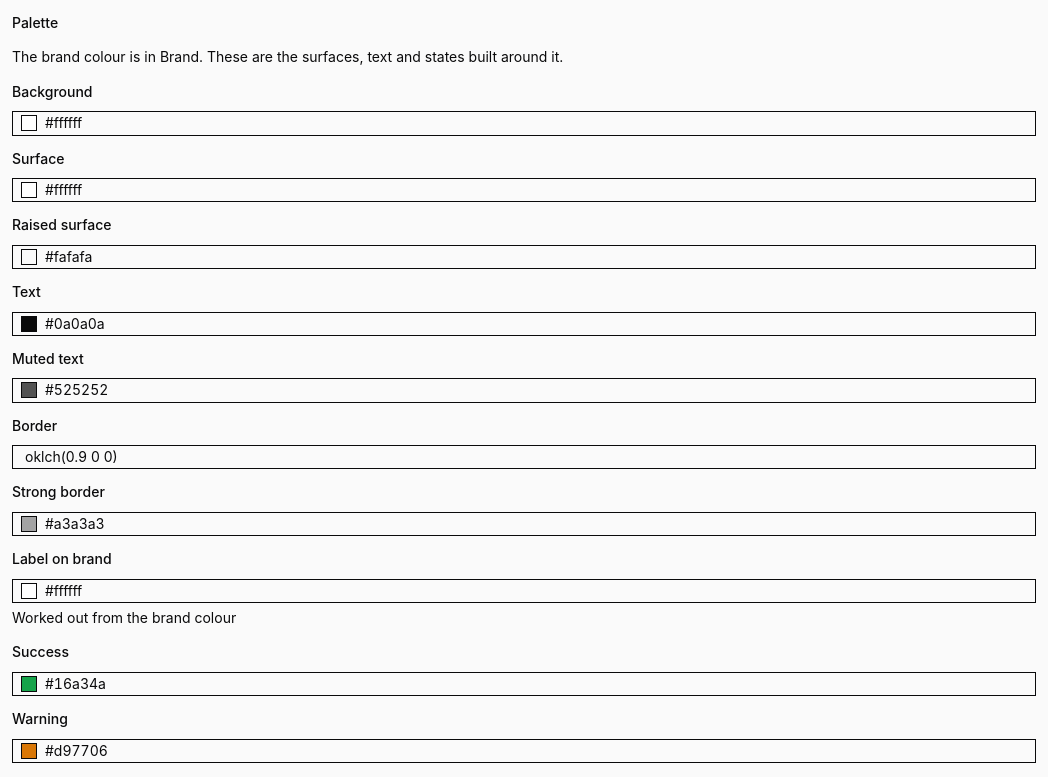
Test: what the section reaches › reverts a half-typed colour on Escape rather than saving it
This screenshot has width=1048, height=777.
Replace the text in the field labelled "Border" with "oklch(0.9": (524, 457) [12,445,1036,470]
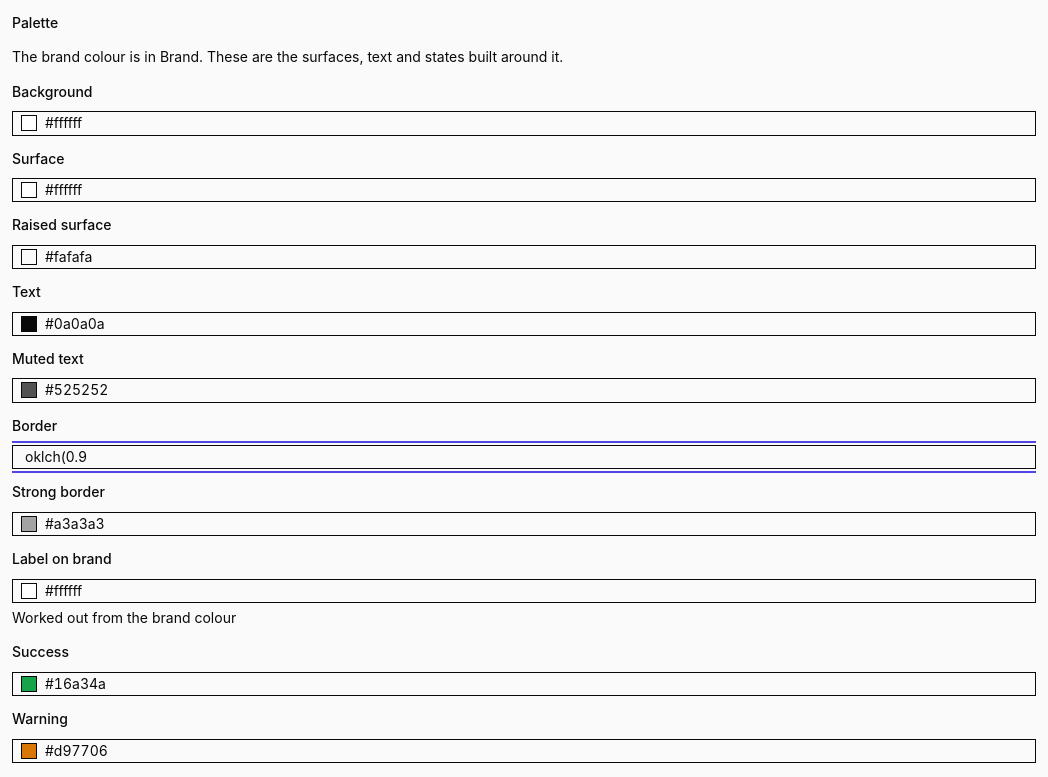
Press Escape
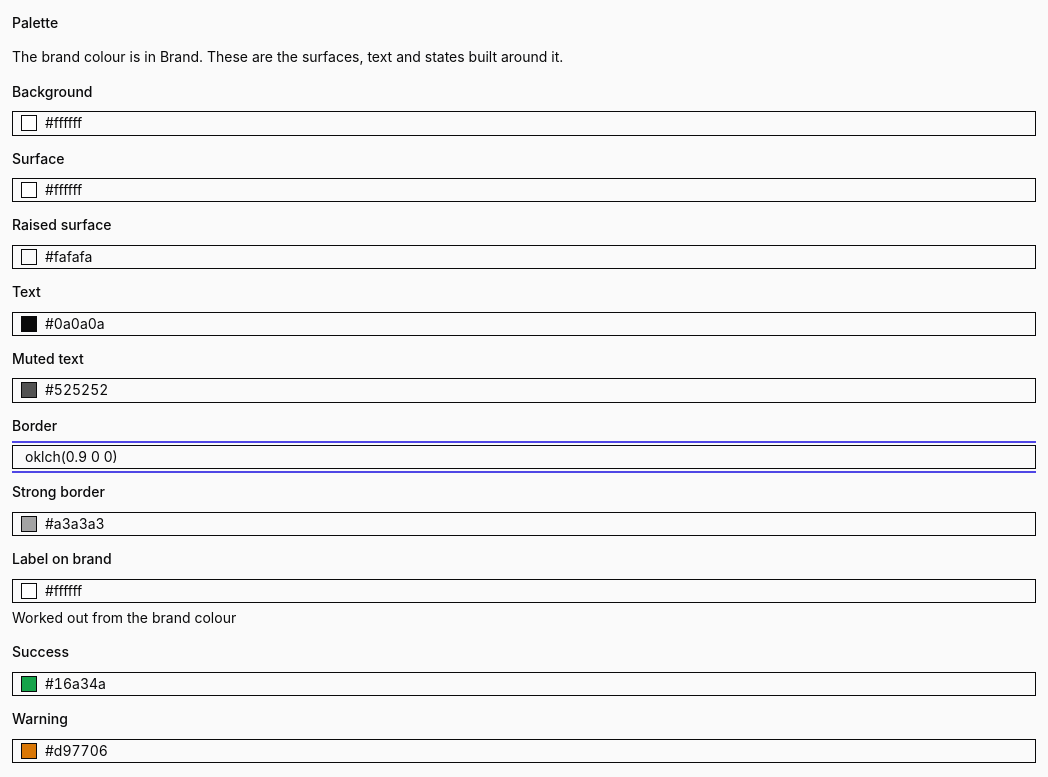
Expected: the field labelled "Border" holds "oklch(0.9 0 0)", [12,445,1036,470]
